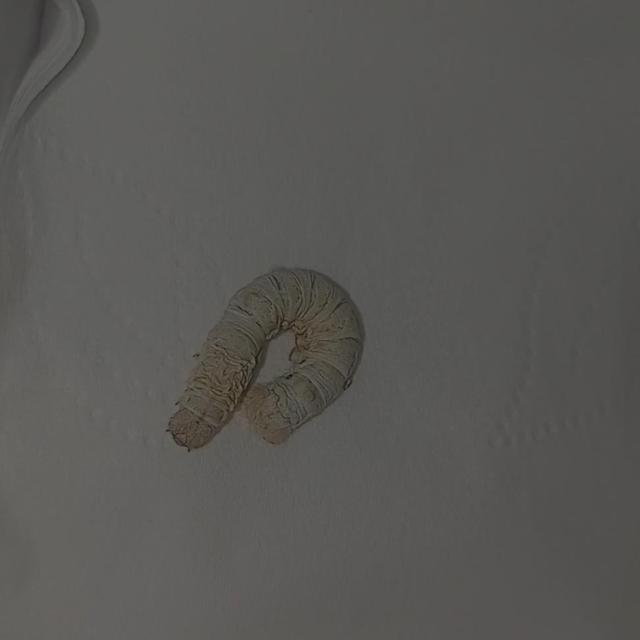Healthy: (161, 253, 370, 462)
